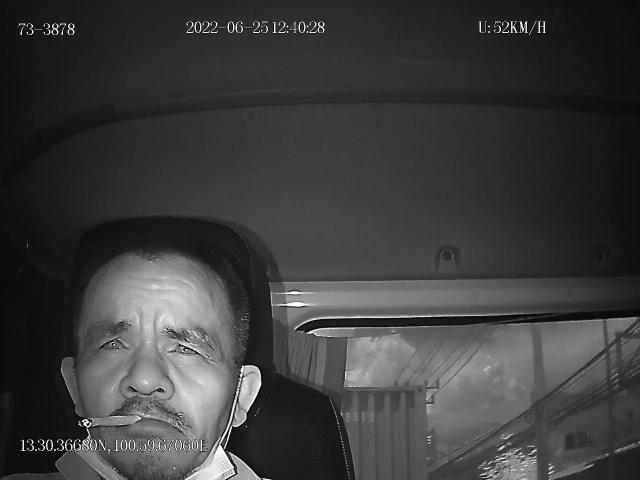SafeDriving: (160, 324, 212, 364), (92, 324, 136, 362)
Smoking: (78, 412, 142, 428)
